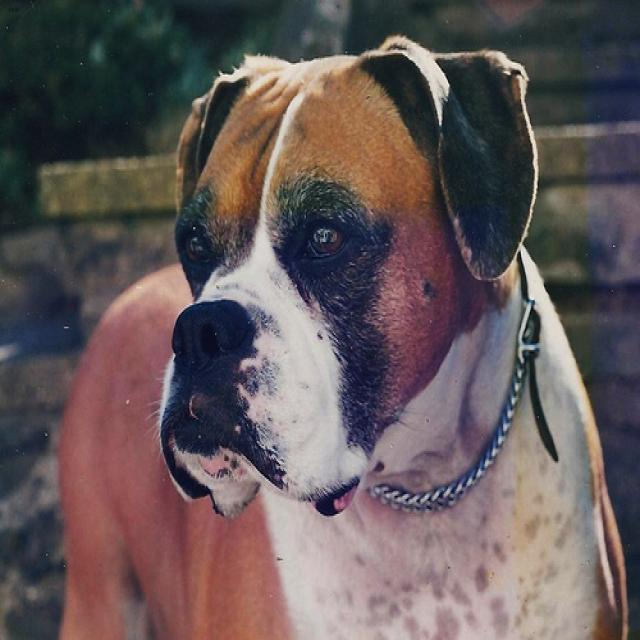dog-boxer: (47, 28, 637, 637)
